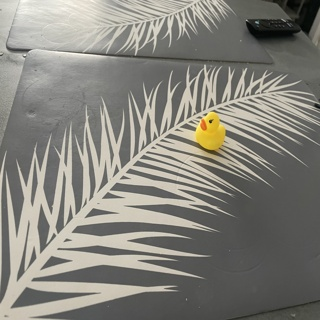duck_regular: (194, 113, 223, 147)
